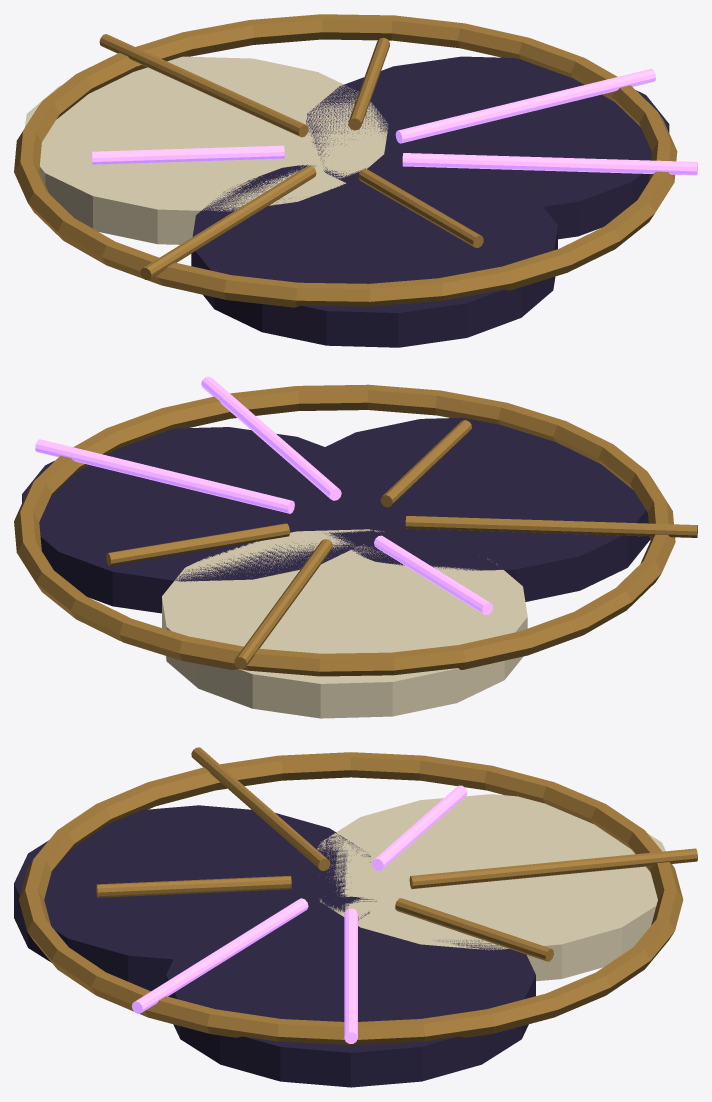
File: runtime.glb
The picture shows the model from 3 angles, top to bottom: view 1: azimuth 30°, elevation 25°; view 2: azimuth 150°, elevation 25°; view 3: azimuth 270°, elevation 25°; orthographic projection.
Visible parts, largest first — view 1: aetherion-astronomical-medallion-v09_lobe_1_nocol, aetherion-astronomical-medallion-v09_lobe_2_nocol, aetherion-astronomical-medallion-v09_outer_meridian_nocol, aetherion-astronomical-medallion-v09_lobe_0_nocol, aetherion-astronomical-medallion-v09_bearing_06_nocol, aetherion-astronomical-medallion-v09_bearing_00_nocol, aetherion-astronomical-medallion-v09_bearing_02_nocol, aetherion-astronomical-medallion-v09_bearing_04_nocol, aetherion-astronomical-medallion-v09_bearing_03_nocol, aetherion-astronomical-medallion-v09_bearing_05_nocol, aetherion-astronomical-medallion-v09_bearing_01_nocol; view 2: aetherion-astronomical-medallion-v09_lobe_1_nocol, aetherion-astronomical-medallion-v09_lobe_2_nocol, aetherion-astronomical-medallion-v09_lobe_0_nocol, aetherion-astronomical-medallion-v09_outer_meridian_nocol, aetherion-astronomical-medallion-v09_bearing_04_nocol, aetherion-astronomical-medallion-v09_bearing_00_nocol, aetherion-astronomical-medallion-v09_bearing_01_nocol, aetherion-astronomical-medallion-v09_bearing_06_nocol, aetherion-astronomical-medallion-v09_bearing_02_nocol, aetherion-astronomical-medallion-v09_bearing_03_nocol, aetherion-astronomical-medallion-v09_bearing_05_nocol; view 3: aetherion-astronomical-medallion-v09_lobe_1_nocol, aetherion-astronomical-medallion-v09_lobe_2_nocol, aetherion-astronomical-medallion-v09_outer_meridian_nocol, aetherion-astronomical-medallion-v09_lobe_0_nocol, aetherion-astronomical-medallion-v09_bearing_02_nocol, aetherion-astronomical-medallion-v09_bearing_06_nocol, aetherion-astronomical-medallion-v09_bearing_05_nocol, aetherion-astronomical-medallion-v09_bearing_04_nocol, aetherion-astronomical-medallion-v09_bearing_01_nocol, aetherion-astronomical-medallion-v09_bearing_00_nocol, aetherion-astronomical-medallion-v09_bearing_03_nocol.
Boxes of the visible parts, x1,y1,x2,y2 form: aetherion-astronomical-medallion-v09_lobe_1_nocol: (24, 56, 388, 244); aetherion-astronomical-medallion-v09_lobe_2_nocol: (191, 163, 557, 347); aetherion-astronomical-medallion-v09_outer_meridian_nocol: (14, 14, 677, 307); aetherion-astronomical-medallion-v09_lobe_0_nocol: (306, 56, 669, 239); aetherion-astronomical-medallion-v09_bearing_06_nocol: (402, 153, 697, 175); aetherion-astronomical-medallion-v09_bearing_00_nocol: (395, 68, 655, 143); aetherion-astronomical-medallion-v09_bearing_02_nocol: (99, 34, 308, 137); aetherion-astronomical-medallion-v09_bearing_04_nocol: (140, 165, 316, 279); aetherion-astronomical-medallion-v09_bearing_03_nocol: (91, 145, 284, 164); aetherion-astronomical-medallion-v09_bearing_05_nocol: (358, 169, 483, 247); aetherion-astronomical-medallion-v09_bearing_01_nocol: (348, 37, 389, 130); aetherion-astronomical-medallion-v09_lobe_1_nocol: (162, 529, 527, 718); aetherion-astronomical-medallion-v09_lobe_2_nocol: (285, 417, 650, 601); aetherion-astronomical-medallion-v09_lobe_0_nocol: (22, 427, 387, 613); aetherion-astronomical-medallion-v09_outer_meridian_nocol: (14, 384, 675, 676); aetherion-astronomical-medallion-v09_bearing_04_nocol: (405, 516, 697, 537); aetherion-astronomical-medallion-v09_bearing_00_nocol: (35, 439, 294, 513); aetherion-astronomical-medallion-v09_bearing_01_nocol: (106, 523, 289, 565); aetherion-astronomical-medallion-v09_bearing_06_nocol: (201, 376, 341, 500); aetherion-astronomical-medallion-v09_bearing_02_nocol: (234, 539, 332, 669); aetherion-astronomical-medallion-v09_bearing_03_nocol: (374, 535, 493, 614); aetherion-astronomical-medallion-v09_bearing_05_nocol: (380, 420, 471, 507); aetherion-astronomical-medallion-v09_lobe_1_nocol: (317, 794, 665, 981); aetherion-astronomical-medallion-v09_lobe_2_nocol: (14, 805, 370, 991); aetherion-astronomical-medallion-v09_outer_meridian_nocol: (19, 752, 683, 1044); aetherion-astronomical-medallion-v09_lobe_0_nocol: (166, 896, 535, 1087); aetherion-astronomical-medallion-v09_bearing_02_nocol: (409, 848, 697, 889); aetherion-astronomical-medallion-v09_bearing_06_nocol: (132, 898, 308, 1013); aetherion-astronomical-medallion-v09_bearing_05_nocol: (96, 875, 291, 897); aetherion-astronomical-medallion-v09_bearing_04_nocol: (191, 747, 330, 870); aetherion-astronomical-medallion-v09_bearing_01_nocol: (395, 898, 553, 961); aetherion-astronomical-medallion-v09_bearing_00_nocol: (344, 908, 357, 1043); aetherion-astronomical-medallion-v09_bearing_03_nocol: (372, 785, 467, 870).
Size of the model in its own units: 7.57 by 0.7165 by 7.55.
